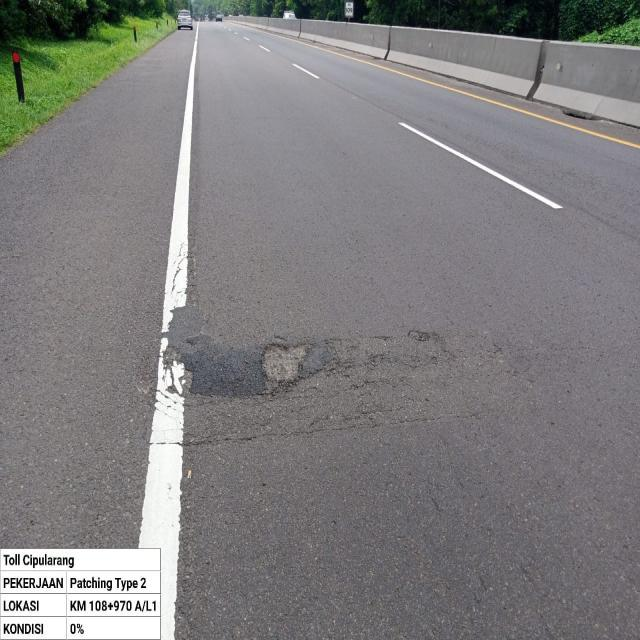Buraco: (253, 340, 319, 398), (558, 105, 608, 122)
